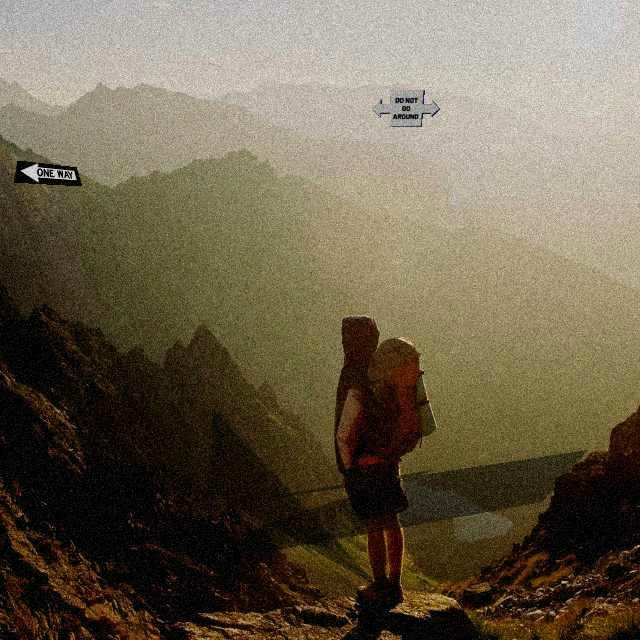DO_NOT_GO_AROUND: (371, 89, 440, 127)
ONE_WAY_ left: (13, 160, 82, 186)
